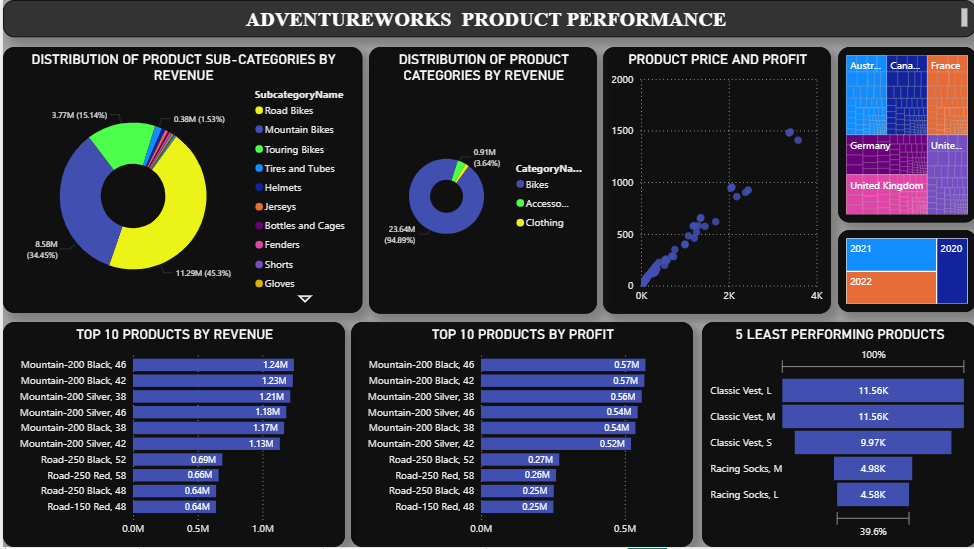

The page's visual inventory and layout, read from the dashboard file:
{"tool":"powerbi","page":{"name":"PRODUCT PERFORMANCE","canvas":[1280,720],"ordinal":1},"visuals":[{"type":"textbox","box":[0,0,1280.2,49],"z":0},{"type":"donutChart","title":"DISTRIBUTION OF PRODUCT SUB-CATEGORIES BY REVENUE","fields":{"Category":["product_subcategories.SubcategoryName"],"Y":["MeasureHolder.Total Revenue"]},"box":[0,62.4,473.4,350],"z":1000},{"type":"clusteredBarChart","title":"TOP 10 PRODUCTS BY REVENUE","fields":{"Category":["products.ProductName"],"Y":["MeasureHolder.Total Revenue"]},"box":[0,423.9,450,295.9],"z":2000},{"type":"scatterChart","title":"PRODUCT PRICE AND PROFIT","fields":{"X":["products.ProductPrice"],"Y":["products.Profit"]},"box":[790,61.9,300,351],"z":3000},{"type":"treemap","fields":{"Values":["MeasureHolder.Total Revenue"],"Group":["regions.Country"],"Details":["products.ProductName"]},"box":[1098.3,61.9,181.7,231.2],"z":4000},{"type":"clusteredBarChart","title":"TOP 10 PRODUCTS BY PROFIT","fields":{"Category":["products.ProductName"],"Y":["MeasureHolder.Total Profit"]},"box":[458.3,423.9,450.1,295.9],"z":5000},{"type":"treemap","fields":{"Group":["calendar.Year"],"Values":["MeasureHolder.Total Revenue"]},"box":[1098.1,303.2,181.9,108.4],"z":6000},{"type":"pieChart","title":"DISTRIBUTION OF PRODUCT CATEGORIES BY REVENUE","fields":{"Category":["product_categories.CategoryName"],"Y":["MeasureHolder.Total Revenue"]},"box":[481.7,61.9,300,351],"z":7000},{"type":"funnel","title":"5 LEAST PERFORMING PRODUCTS","fields":{"Category":["products.ProductName"],"Y":["MeasureHolder.Total Revenue"]},"box":[919.4,423.9,360.6,295.9],"z":8000}]}

Visuals, with their boxes in screenshot pixels (x1, y1, x2, y2), scaled from the page's 1280x720 canvas onto the 974x549 screenshot:
textbox: <box>0,0,973,37</box>
"DISTRIBUTION OF PRODUCT SUB-CATEGORIES BY REVENUE" donutChart: <box>0,48,360,314</box>
"TOP 10 PRODUCTS BY REVENUE" clusteredBarChart: <box>0,323,342,548</box>
"PRODUCT PRICE AND PROFIT" scatterChart: <box>601,47,829,315</box>
treemap - MeasureHolder.Total Revenue x regions.Country: <box>836,47,973,223</box>
"TOP 10 PRODUCTS BY PROFIT" clusteredBarChart: <box>349,323,691,548</box>
treemap - calendar.Year x MeasureHolder.Total Revenue: <box>836,231,973,314</box>
"DISTRIBUTION OF PRODUCT CATEGORIES BY REVENUE" pieChart: <box>367,47,595,315</box>
"5 LEAST PERFORMING PRODUCTS" funnel: <box>700,323,973,548</box>
